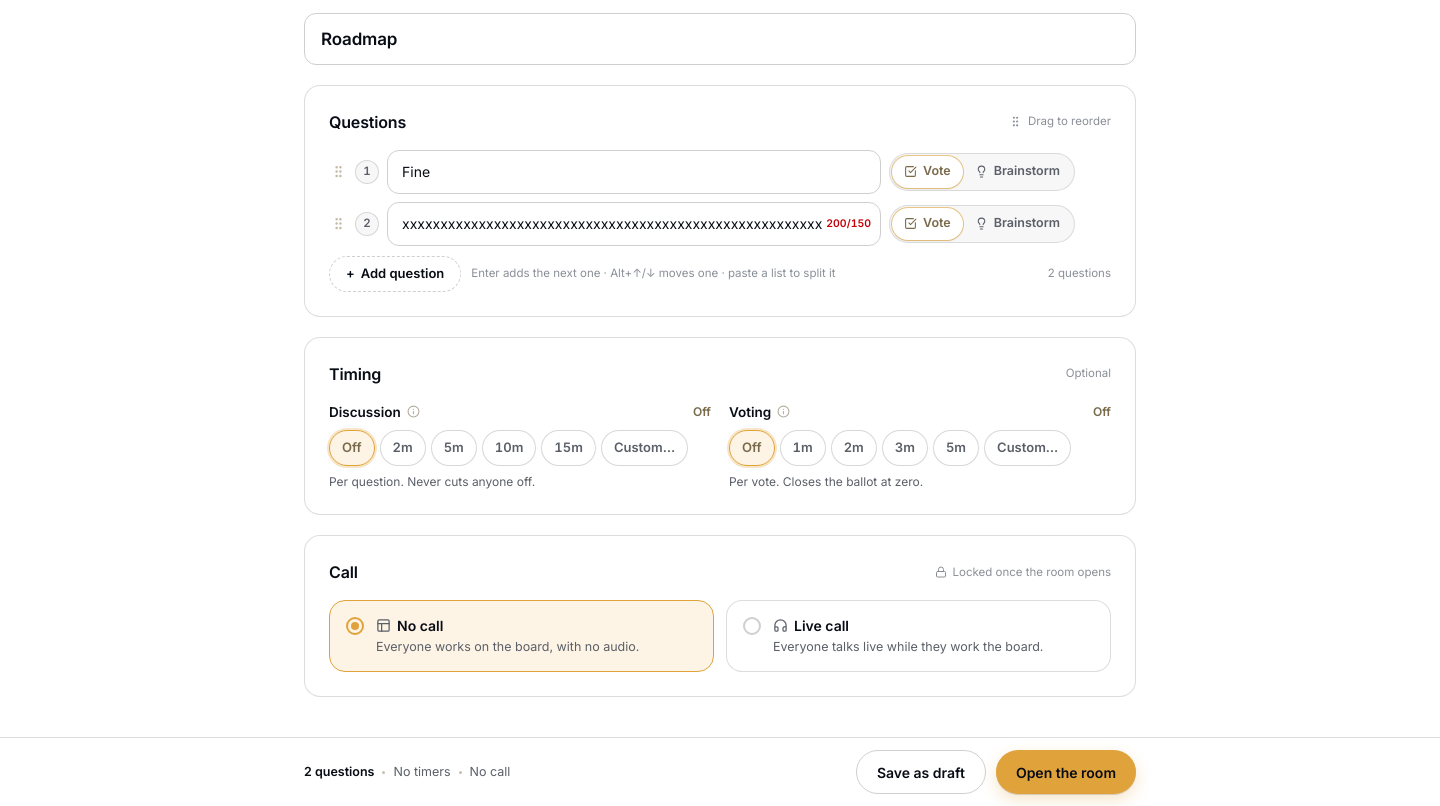
Test case: SessionQuestionsForm › names the question that is too long when creating a session
(page scrolled)
Click the button "Open the room". click: (1066, 772)
box: [996,750,1136,794]
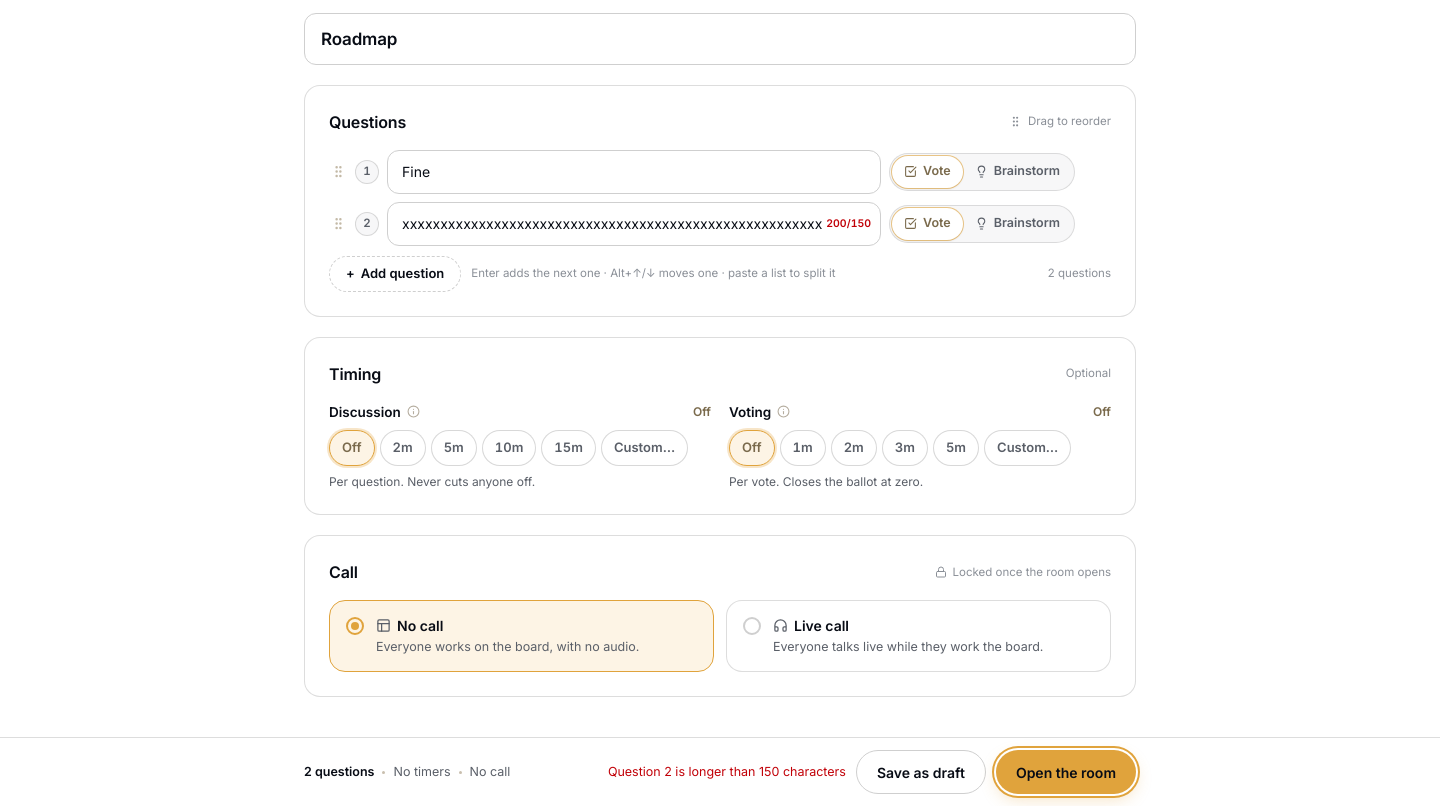
Expected: the message "Question 2 is longer than 150 characters" is shown, [608,763,846,781]
